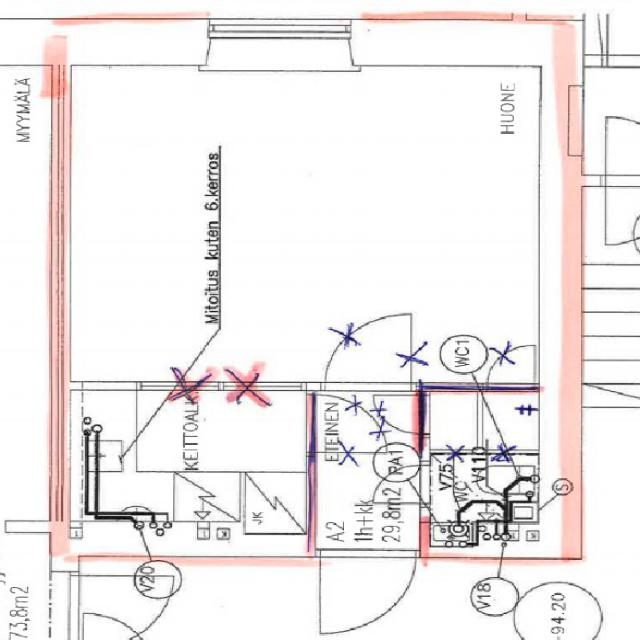door: (320, 548, 414, 634), (373, 464, 429, 502)
